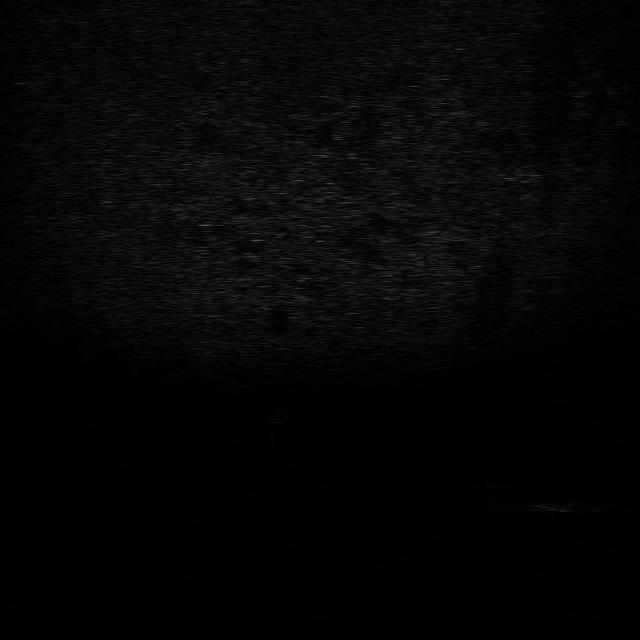ball: (261, 404, 294, 425)
metal bucket: (522, 500, 612, 516)
tyre: (466, 482, 526, 513)
